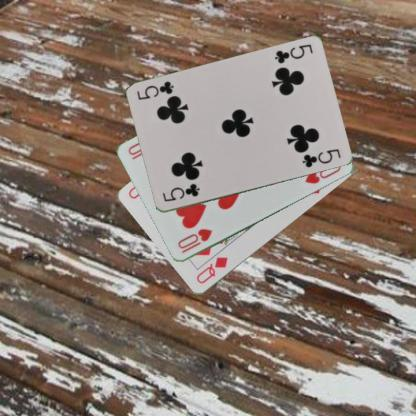10h: (175, 226, 213, 255)
5c: (272, 41, 314, 66), (160, 181, 202, 203)
Qd: (193, 254, 228, 286)
